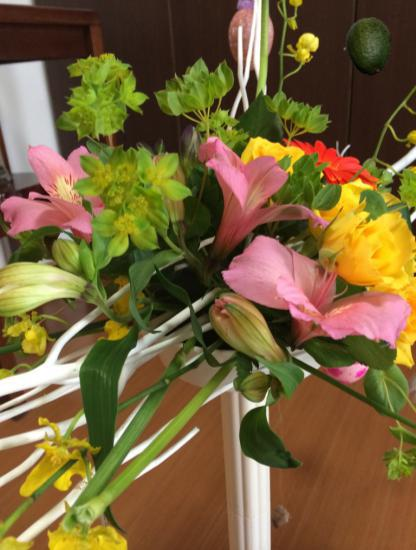Avocado: (338, 17, 397, 76)
